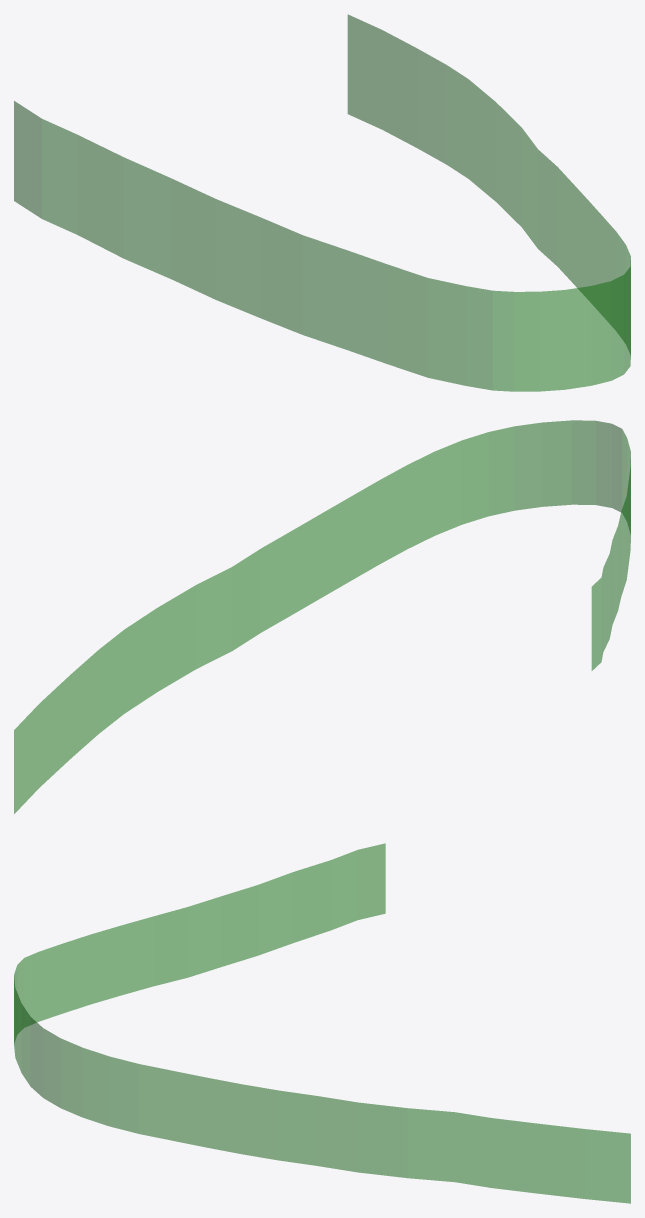
File: saku.obj
3 views of the same model, one above another, from view 1: azimuth 30°, elevation 25°; view 2: azimuth 150°, elevation 25°; view 3: azimuth 270°, elevation 25° (orthographic). The views are drawn at different scales.
Bounding box in the file's own units: 111 × 55.32 × 166.
